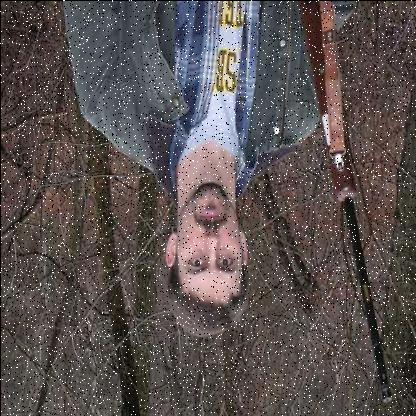rifle: (289, 1, 398, 403)
